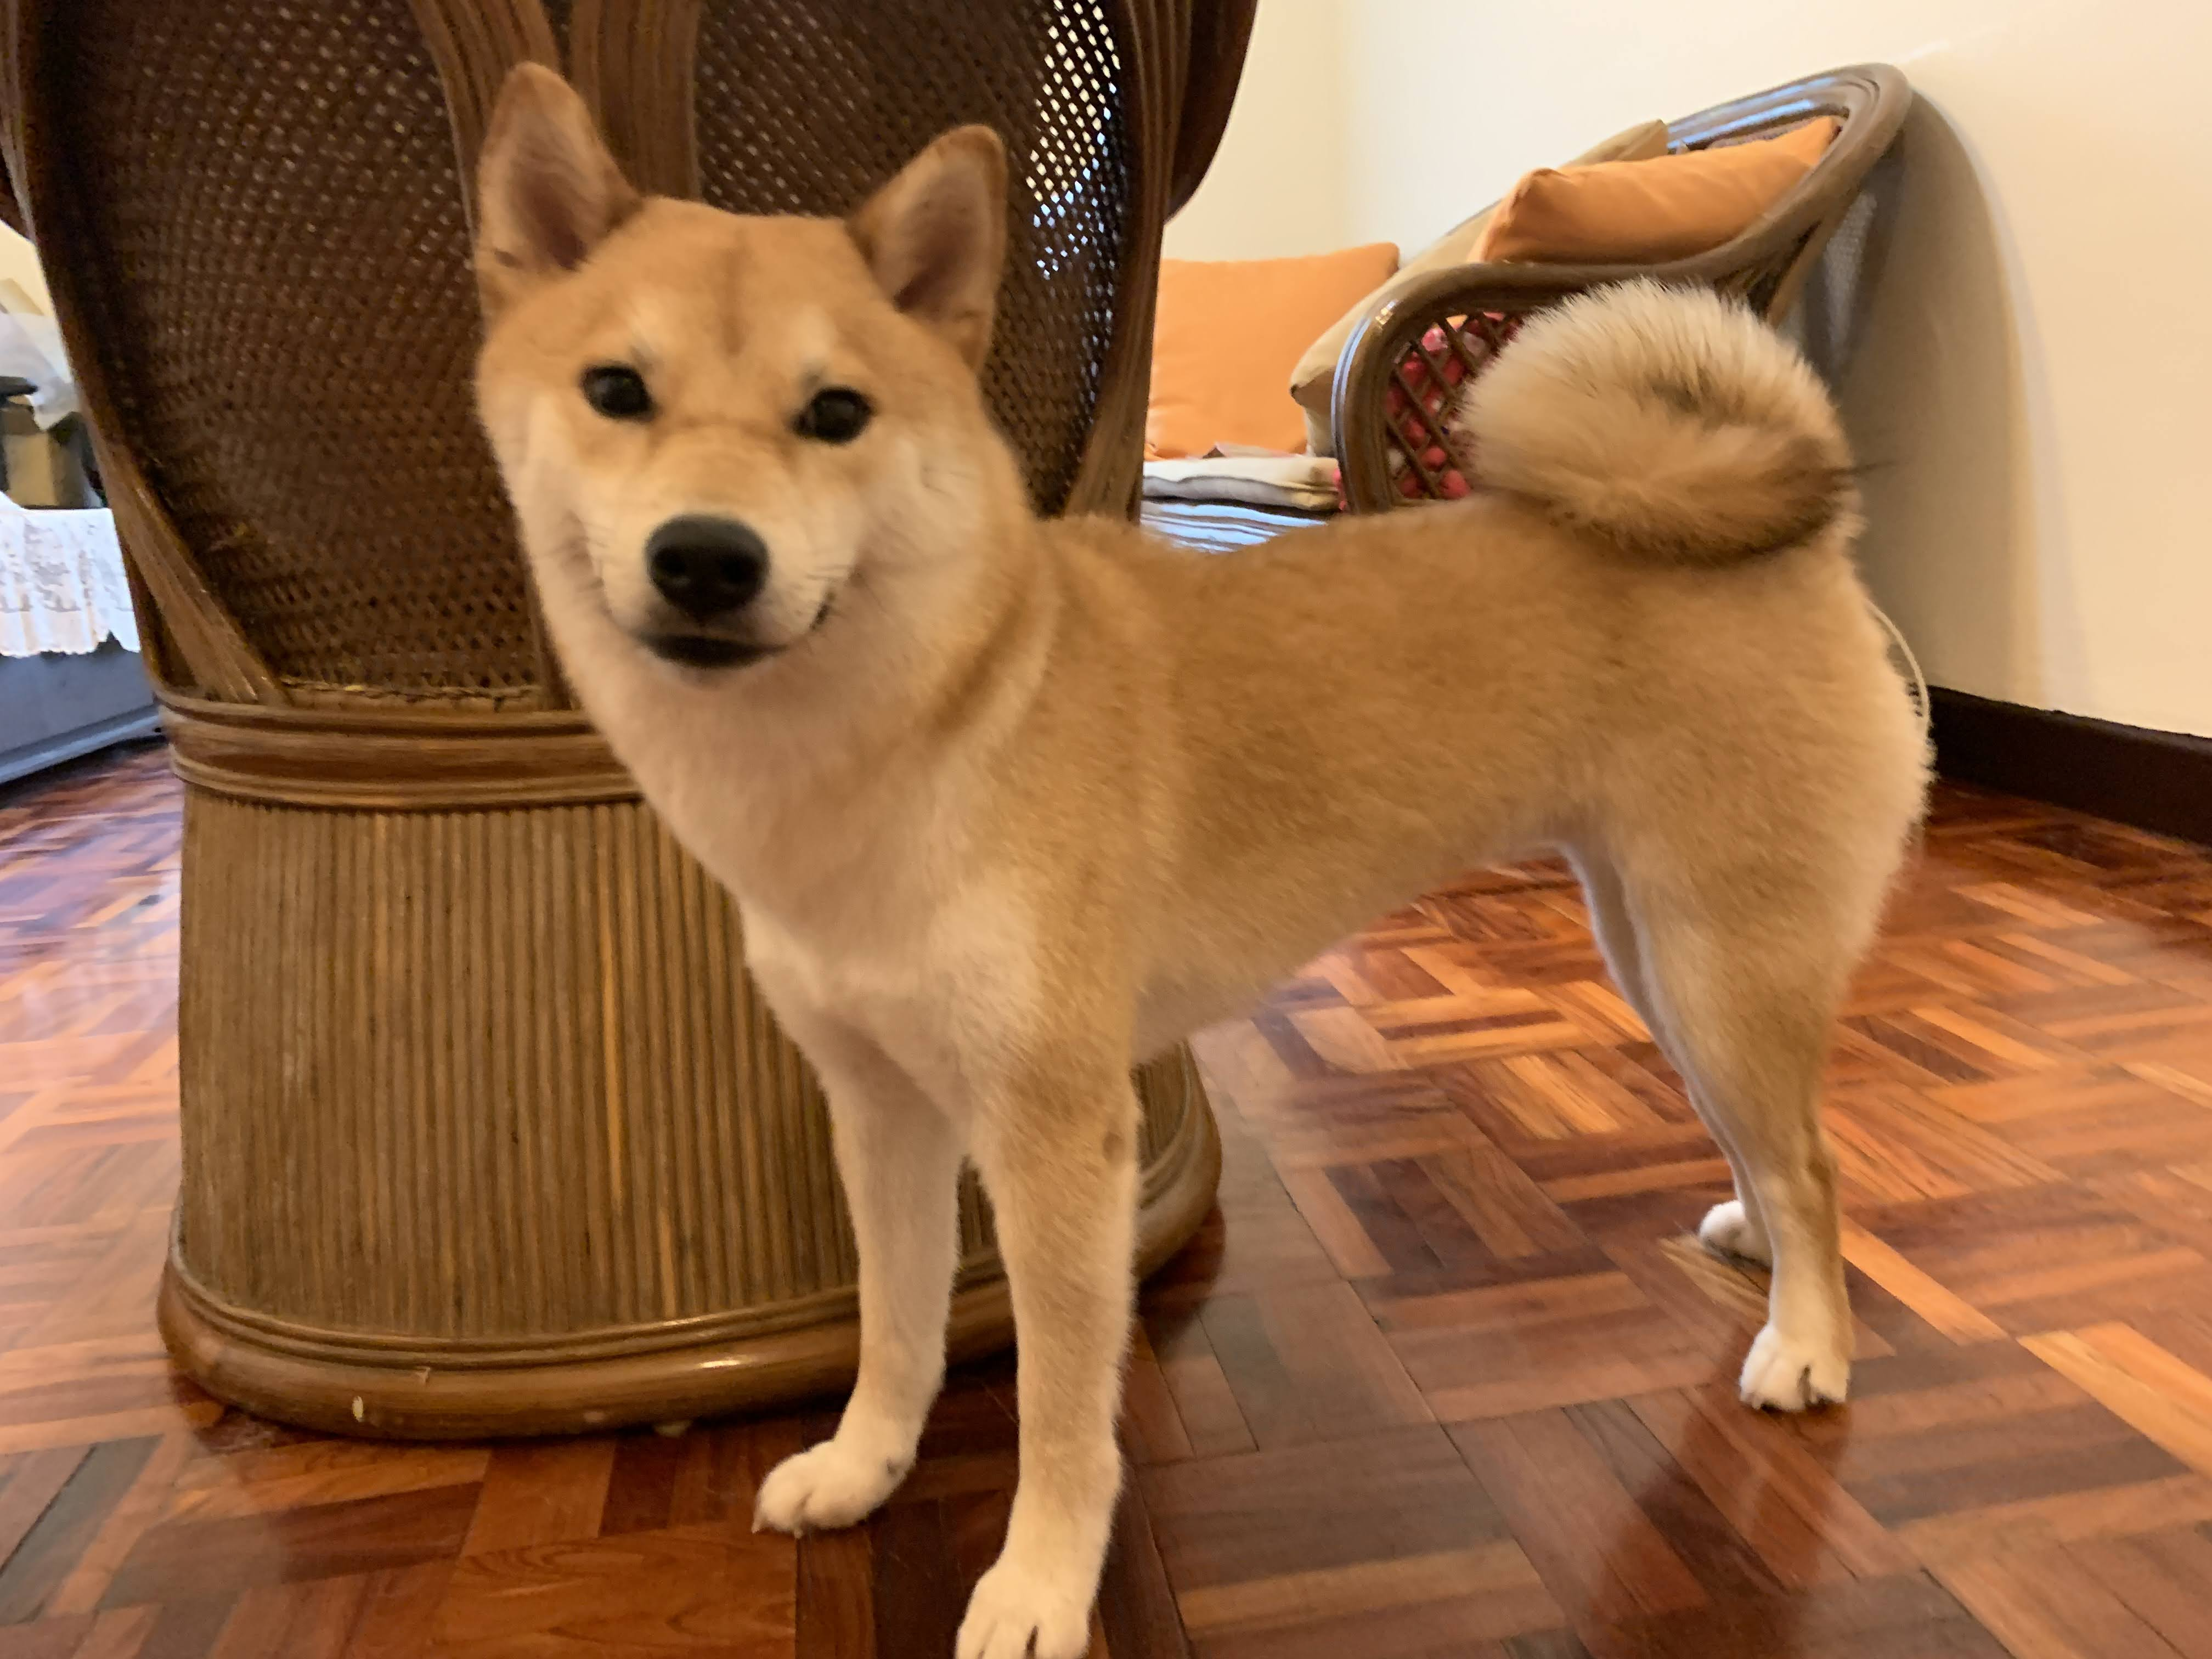Stand up: (425, 38, 1961, 1659)
